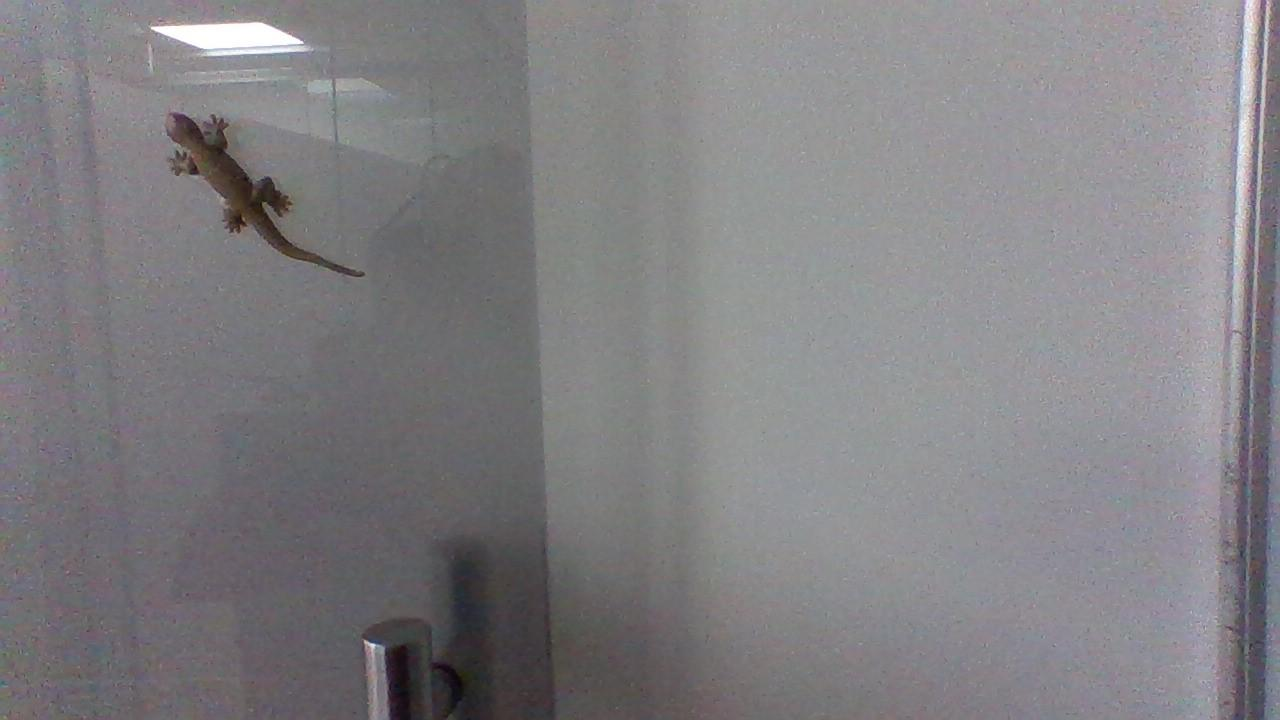lizard: (135, 92, 377, 289)
